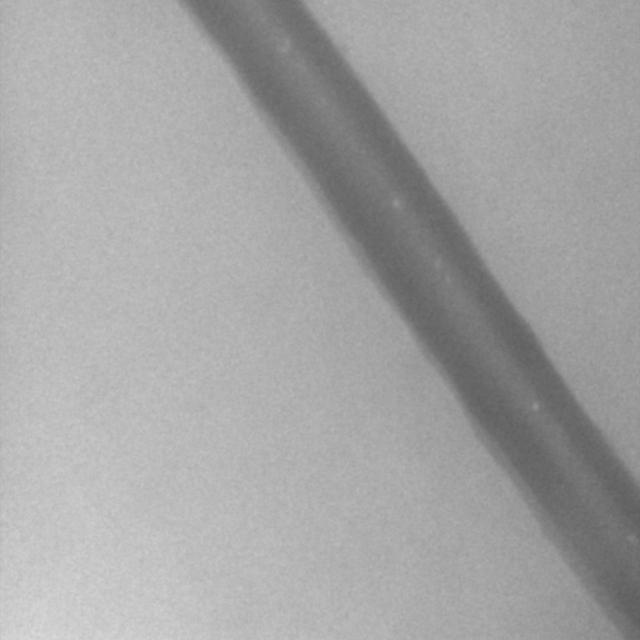air hole: (390, 196, 402, 210), (529, 400, 539, 412)
